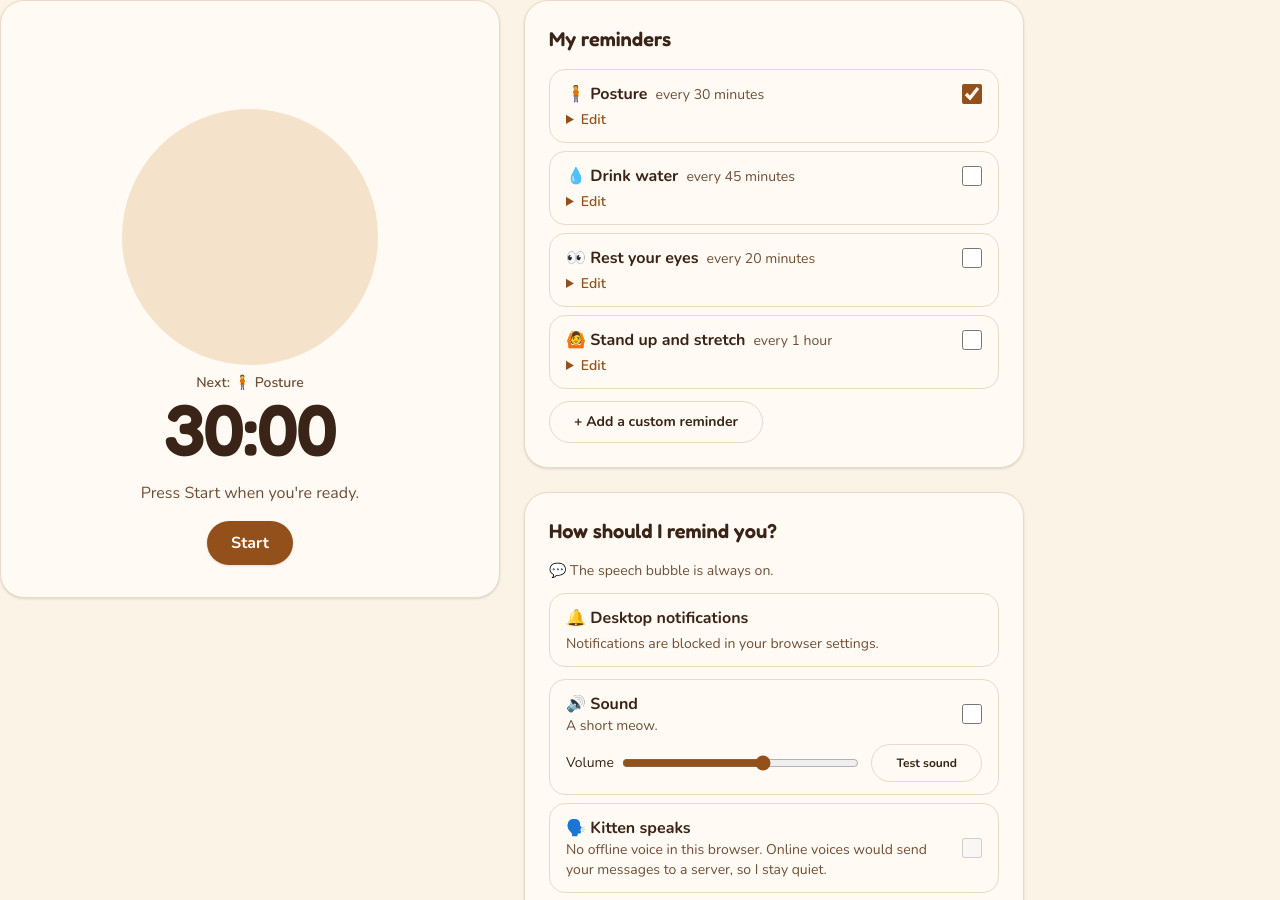
notifications › still reminds in the page when notifications are blocked
Click the button "Start".
click(250, 543)  # box [207, 521, 293, 565]
Wait 1800000 ms
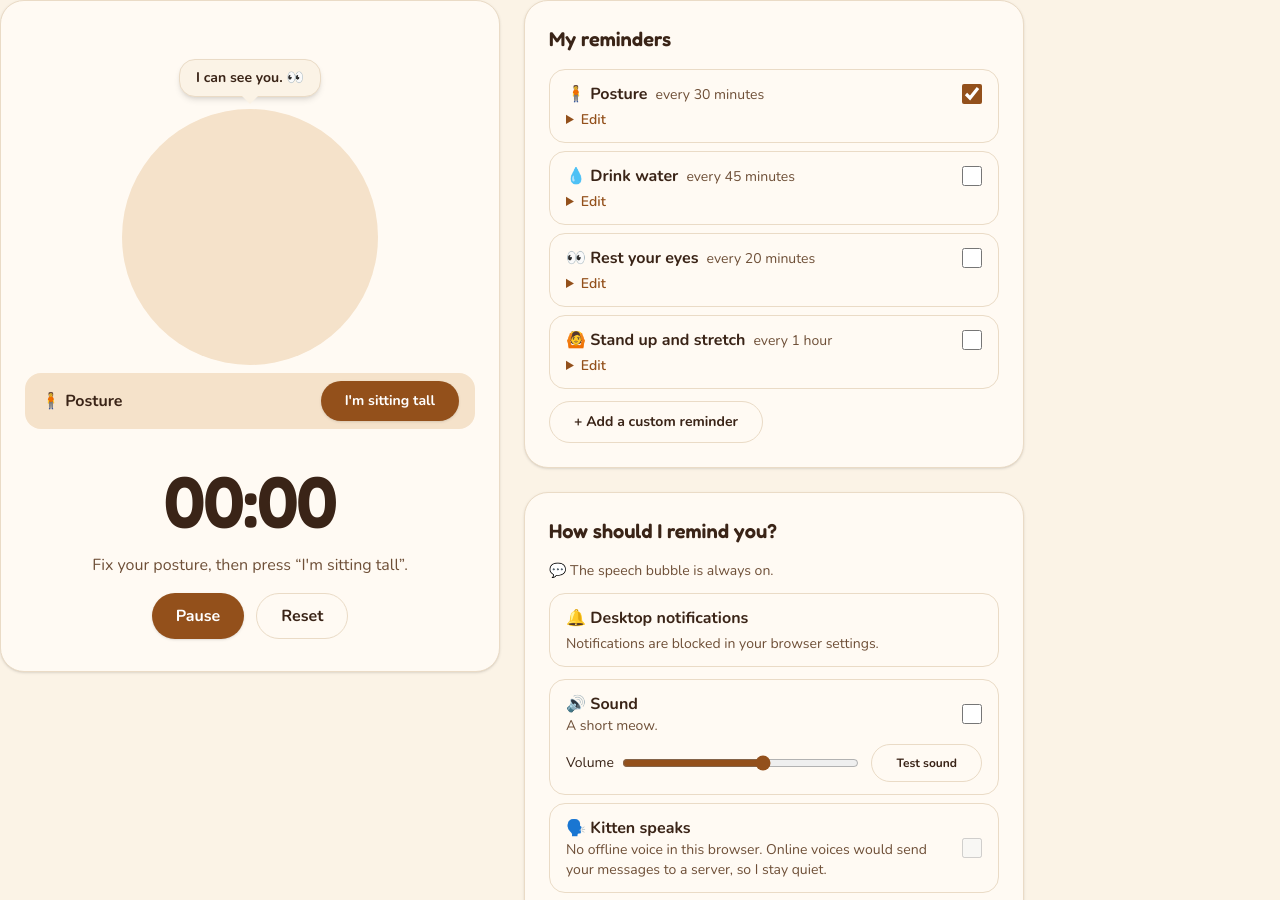
Result: the text with test id "speech-bubble" reads "I can see you. 👀" at [196, 68, 304, 87]
